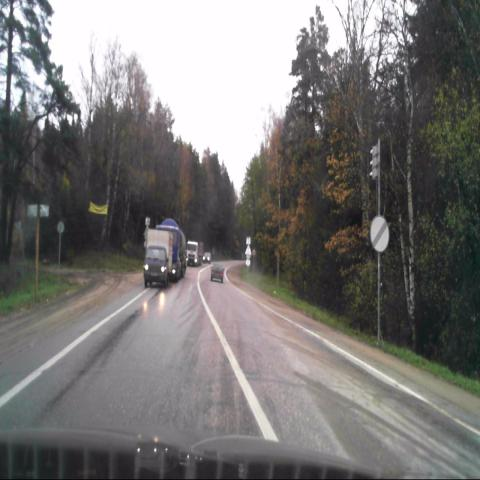3_31: (370, 214, 390, 253)
